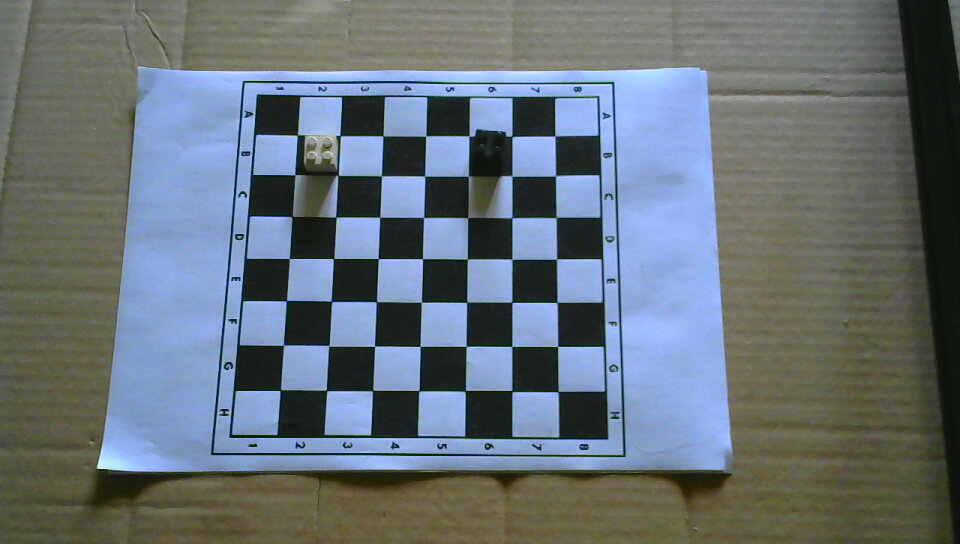bp: (472, 127, 509, 169)
wp: (303, 132, 339, 173)
